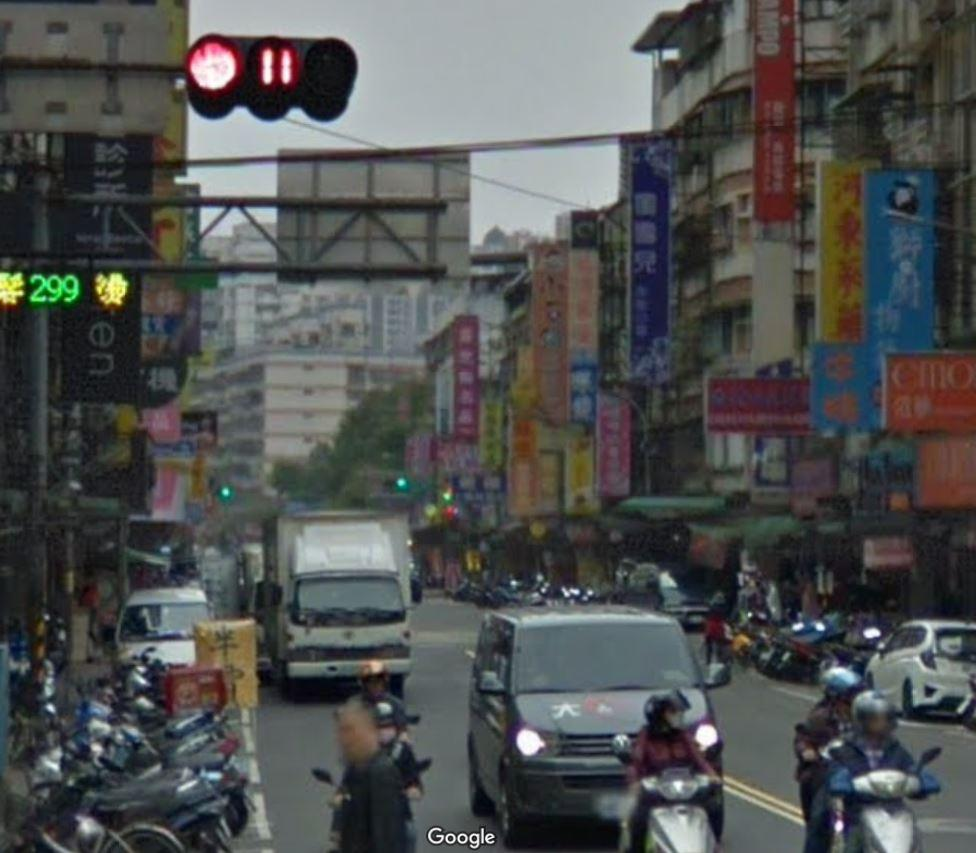red_traffic_light: (182, 30, 359, 112)
